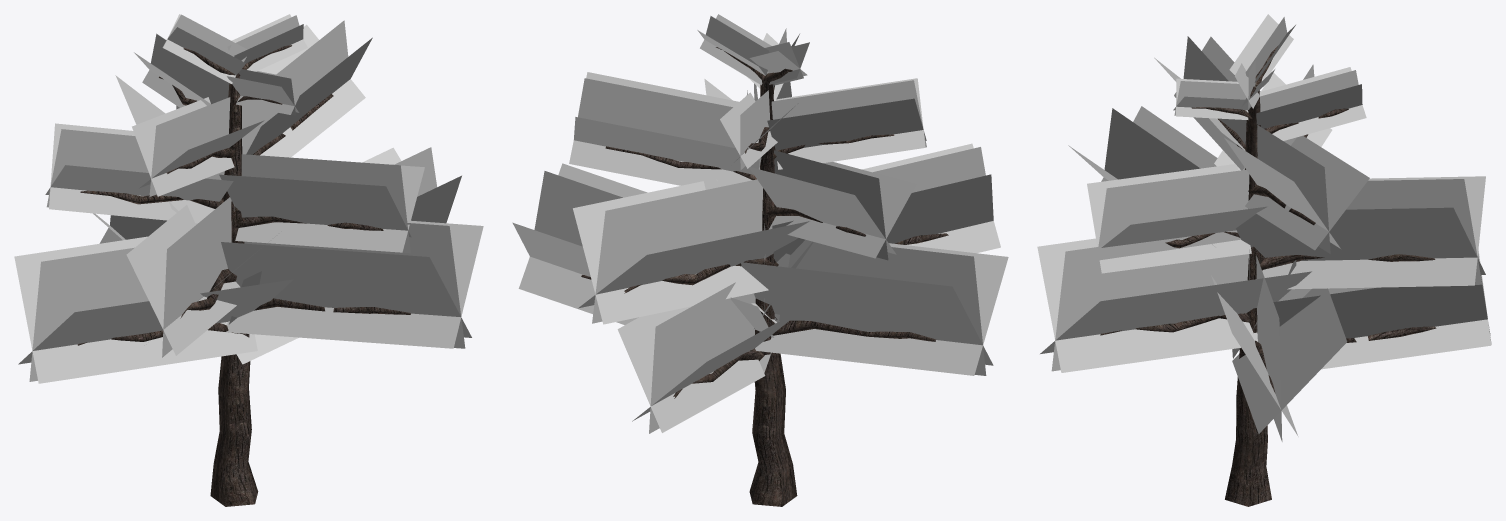
Rendered from blackpine01_unwrap.FBX.
The picture shows the model from 3 angles, left to right: view 1: azimuth 30°, elevation 25°; view 2: azimuth 150°, elevation 25°; view 3: azimuth 270°, elevation 25°; orthographic projection. The views are drawn at different scales.
Visible parts, largest first — view 1: BlackPine01, TRONCO; view 2: BlackPine01, TRONCO; view 3: BlackPine01, TRONCO.
Part boxes in pixels (box(x1,y1,x2,y2)): BlackPine01: box(14, 14, 483, 383); TRONCO: box(77, 45, 410, 506); BlackPine01: box(512, 14, 1008, 433); TRONCO: box(581, 47, 948, 506); BlackPine01: box(1037, 14, 1491, 441); TRONCO: box(1100, 46, 1436, 506).
Bounding box in the file's own units: 176 × 182 × 162.
